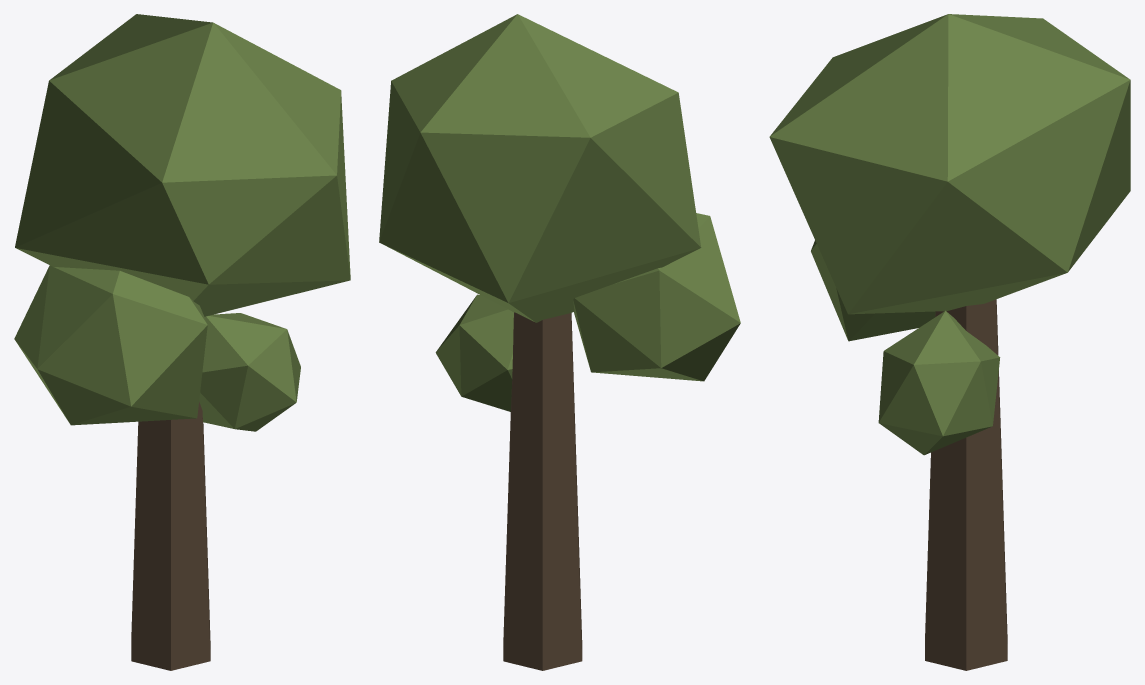
File: SM_Env_Generic_Tree_04.glb
3 views of the same model, side by side, from view 1: azimuth 30°, elevation 25°; view 2: azimuth 150°, elevation 25°; view 3: azimuth 270°, elevation 25° (orthographic). The views are drawn at different scales.
Parts seen in each view (by area): view 1: SM_Env_Generic_Tree_04; view 2: SM_Env_Generic_Tree_04; view 3: SM_Env_Generic_Tree_04.
Part boxes in pixels (bbox=[...]): SM_Env_Generic_Tree_04: bbox=[14, 14, 350, 670]; SM_Env_Generic_Tree_04: bbox=[379, 14, 740, 670]; SM_Env_Generic_Tree_04: bbox=[769, 14, 1130, 670].
Size of the model in its own units: 0.5293 by 0.9674 by 0.4841.
1 material, 1 textured.
